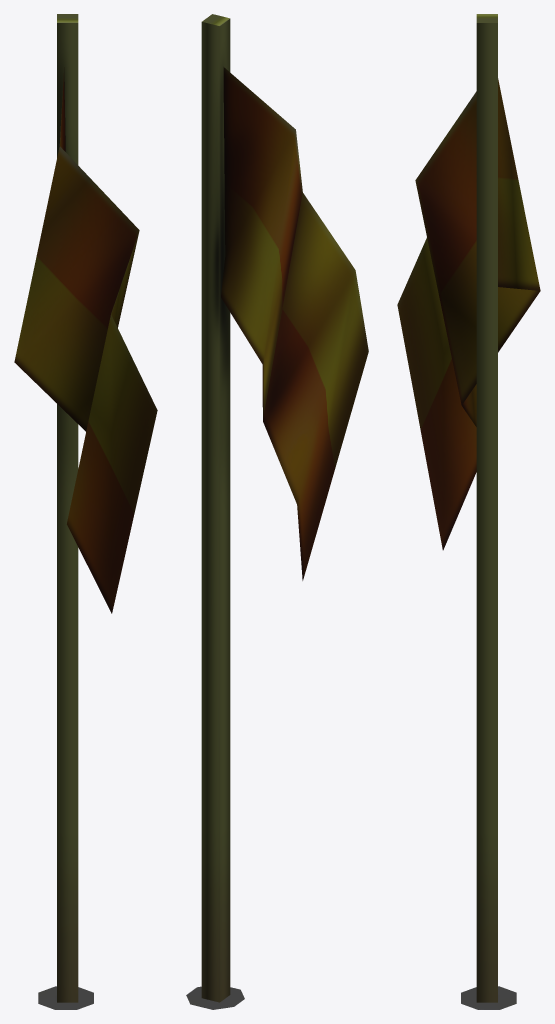
Rendered from CornerFlag.FBX.
3 views of the same model, side by side, from view 1: azimuth 90°, elevation 25°; view 2: azimuth 150°, elevation 25°; view 3: azimuth 270°, elevation 25° (orthographic).
Visible parts, largest first — view 1: CornerFlag; view 2: CornerFlag; view 3: CornerFlag.
Boxes of the visible parts, left/top/right/bottom form: CornerFlag: left=14, top=14, right=157, bottom=1009; CornerFlag: left=186, top=14, right=368, bottom=1009; CornerFlag: left=397, top=14, right=540, bottom=1009.
Bounding box in the file's own units: 21.86 × 145 × 19.08.
